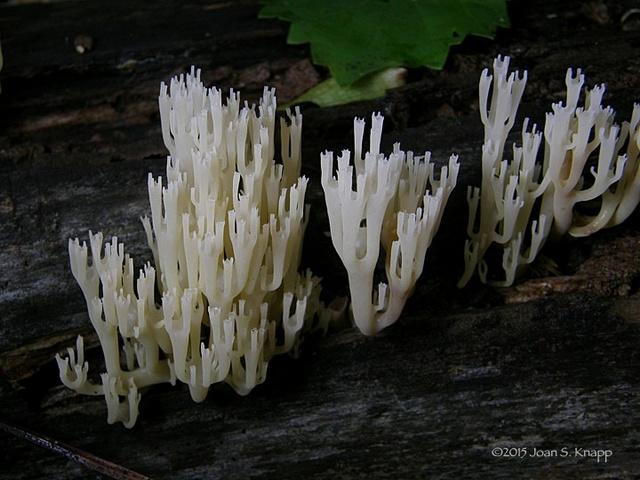Edible Mushroom: (54, 64, 336, 427), (456, 52, 638, 289), (318, 109, 460, 336)
